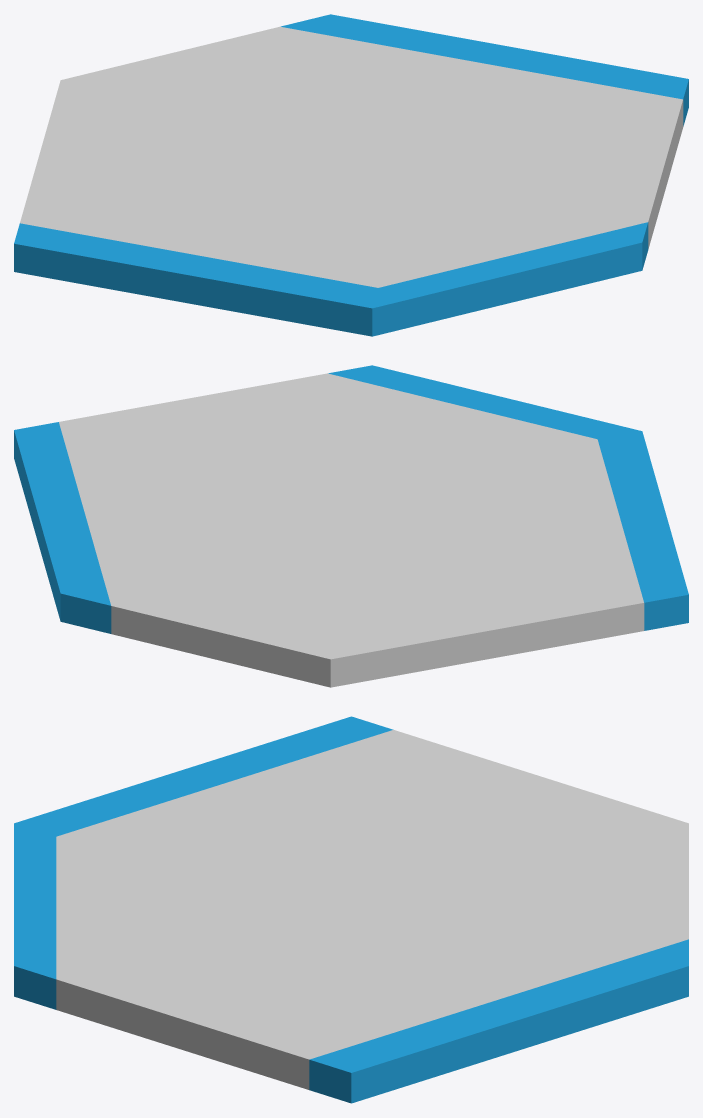
The picture shows the model from 3 angles, top to bottom: view 1: azimuth 30°, elevation 25°; view 2: azimuth 150°, elevation 25°; view 3: azimuth 270°, elevation 25°; orthographic projection. The views are drawn at different scales.
Parts seen in each view (by area): view 1: Hexagon, SW, S, NE; view 2: Hexagon, NE, SW, S; view 3: Hexagon, NE, SW, S.
Boxes of the visible parts, x1,y1,x2,y2 form: Hexagon: (20, 26, 683, 287); SW: (14, 223, 377, 336); S: (372, 222, 648, 336); NE: (281, 14, 688, 126); Hexagon: (59, 373, 644, 687); NE: (14, 422, 111, 633); SW: (597, 431, 688, 630); S: (328, 365, 641, 439); Hexagon: (56, 730, 688, 1089); NE: (309, 939, 688, 1103); SW: (14, 716, 393, 836); S: (14, 823, 56, 1009).
Bounding box in the file's own units: 5 × 4 × 0.2.
